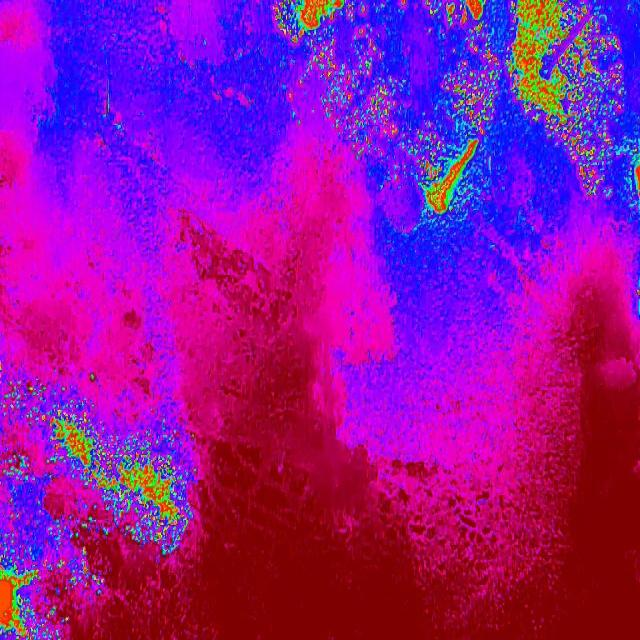fire: (0, 354, 107, 640), (398, 0, 502, 250), (503, 0, 640, 119), (272, 0, 398, 122), (108, 408, 198, 556), (545, 120, 640, 208)
